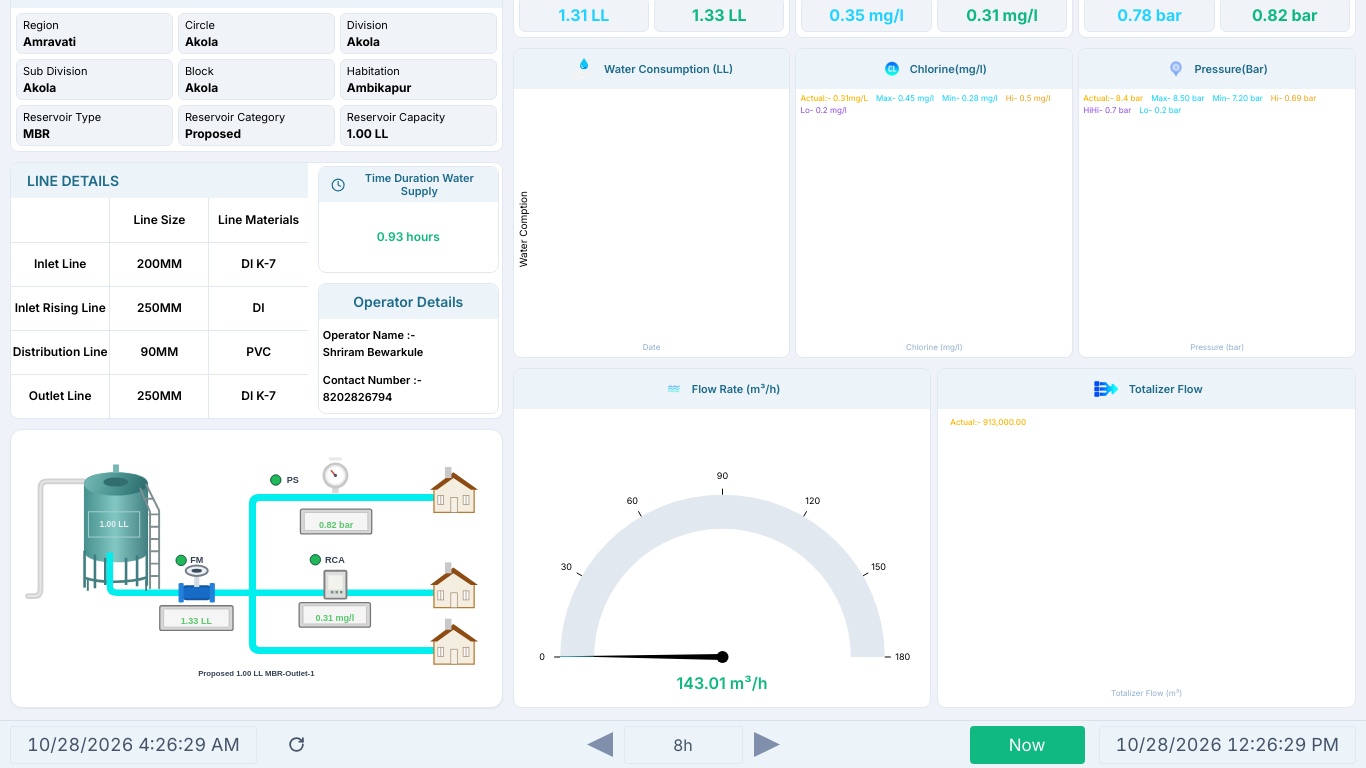
Scenario: ESR popup trends › closes from the toolbar
(page scrolled)
Step 1. Click the button with aria-label "Open Totalizer Flow trend" → (988, 422), box top-left (950, 417), bottom-right (1182, 698)
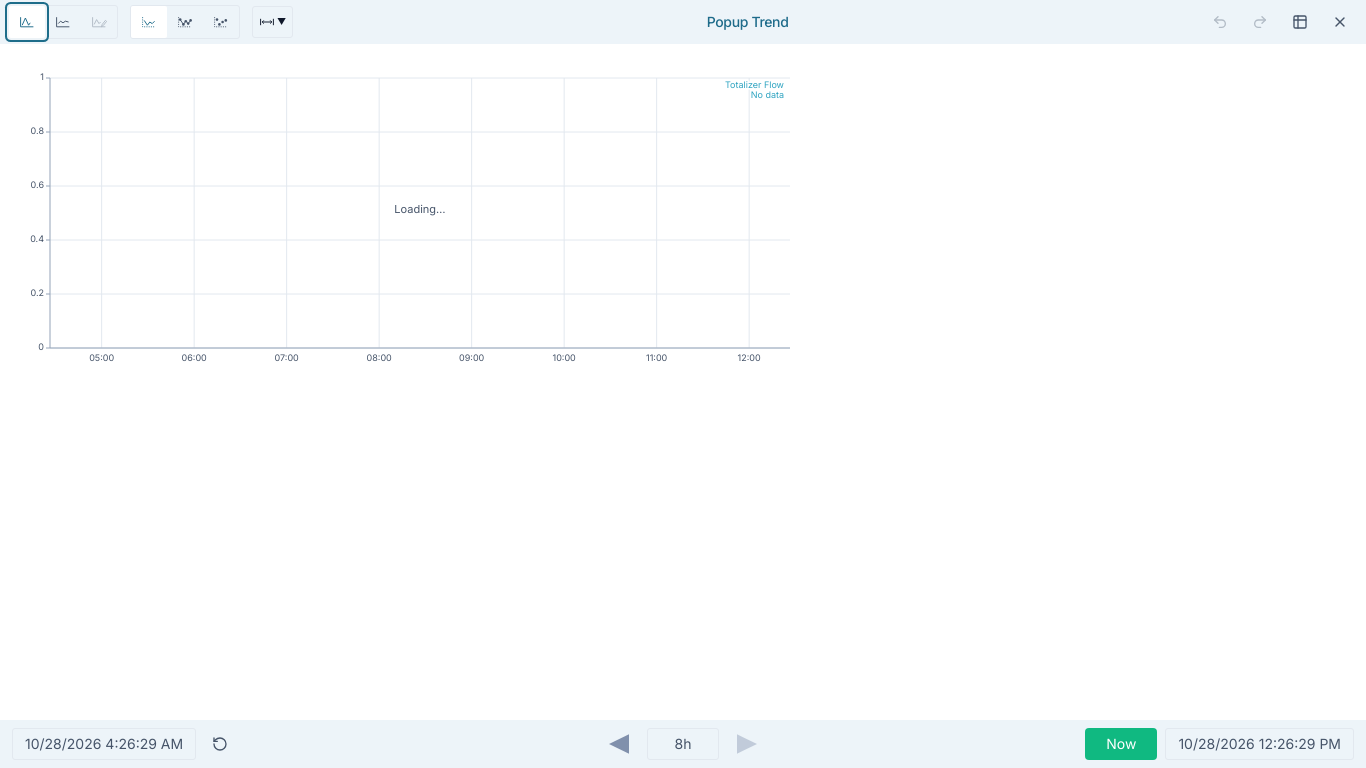
Step 2. Click the button named "Close" → (1340, 22), box top-left (1322, 6), bottom-right (1358, 38)
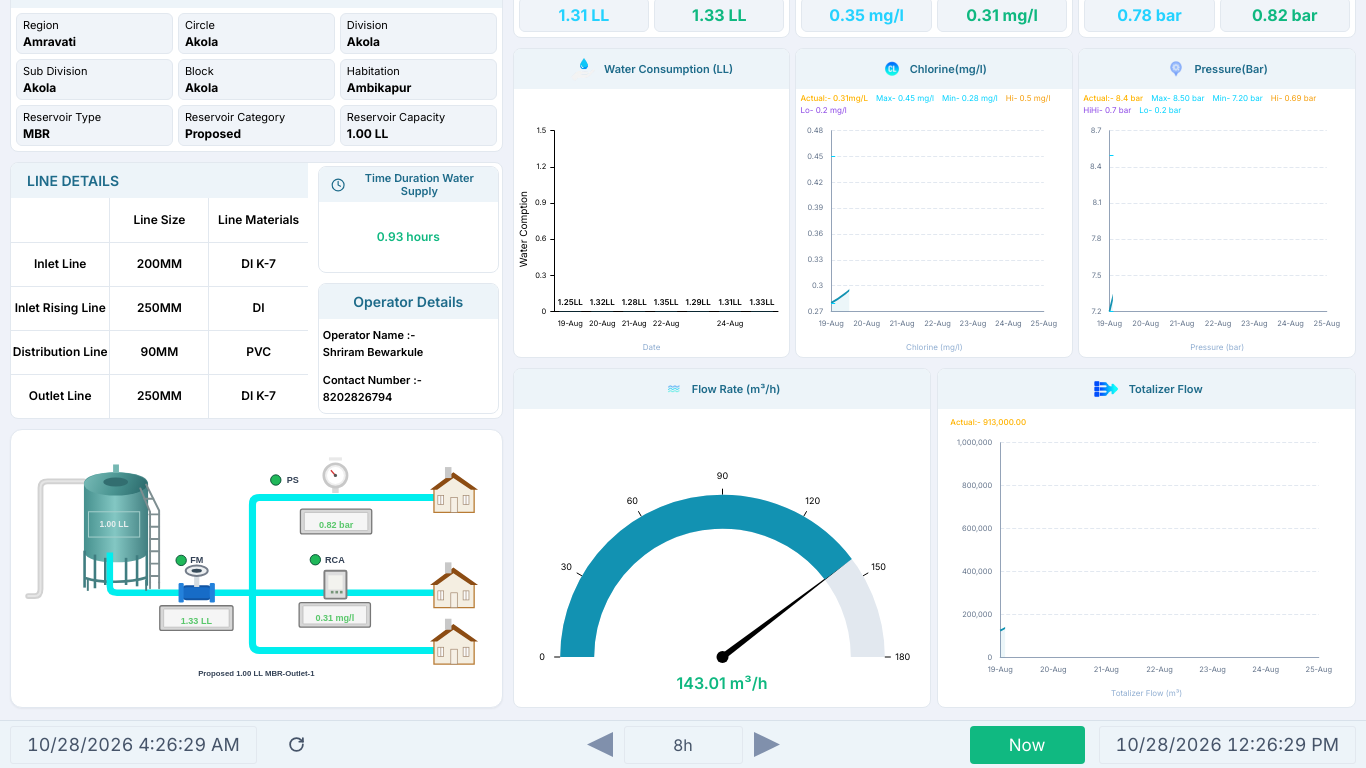
Expected: the dialog is gone
